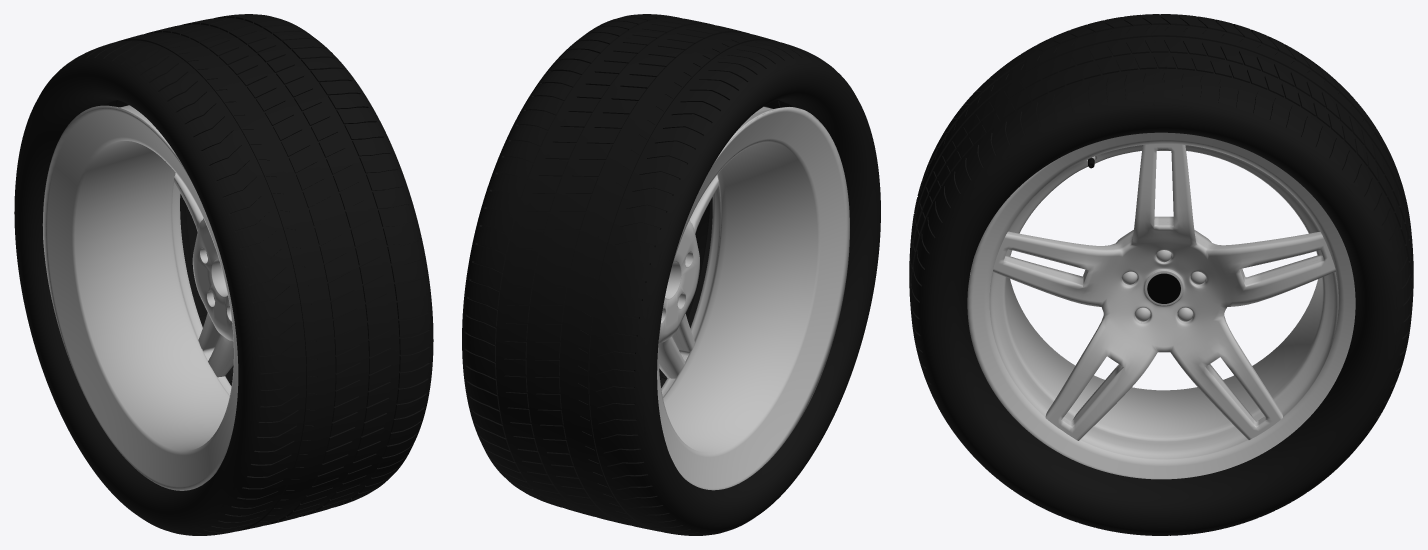
3 renders of one model, left to right at view 1: azimuth 30°, elevation 25°; view 2: azimuth 150°, elevation 25°; view 3: azimuth 270°, elevation 25°, orthographic.
Visible parts, largest first — view 1: 1, 2; view 2: 1, 2; view 3: 1, 2.
Boxes of the visible parts, x1,y1,x2,y2 form: 1: (14,14,433,535); 2: (42,105,238,490); 1: (462,14,880,535); 2: (657,106,849,490); 1: (909,14,1413,535); 2: (967,132,1355,479).
Bounding box in the file's own units: 0.4233 × 0.9886 × 0.9886.
1 material, 1 textured.
